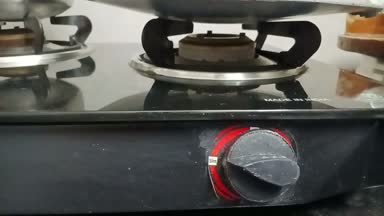noflame_gason: (161, 18, 310, 207)
